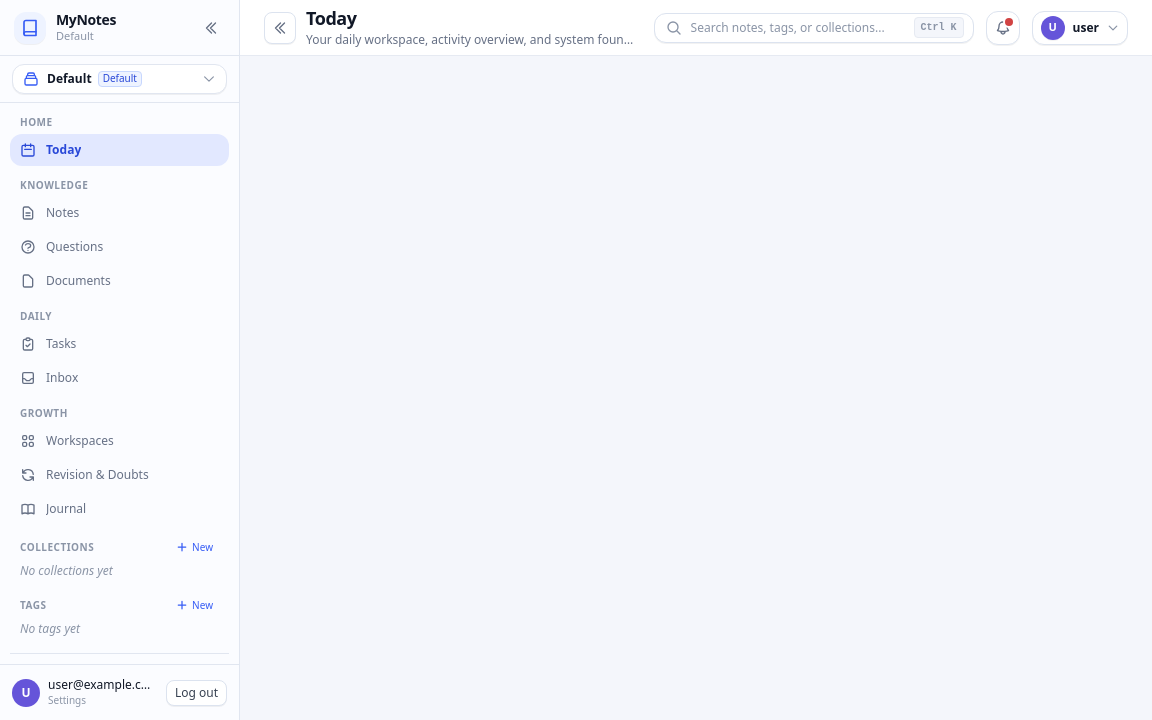
Scenario: Workspaces Feature Frontend Test Suite › 3. Manage Workspaces Modal › opens manage workspaces modal from switcher dropdown
Click the button with aria-label "switch workspace": (120, 79) [12,64,227,94]
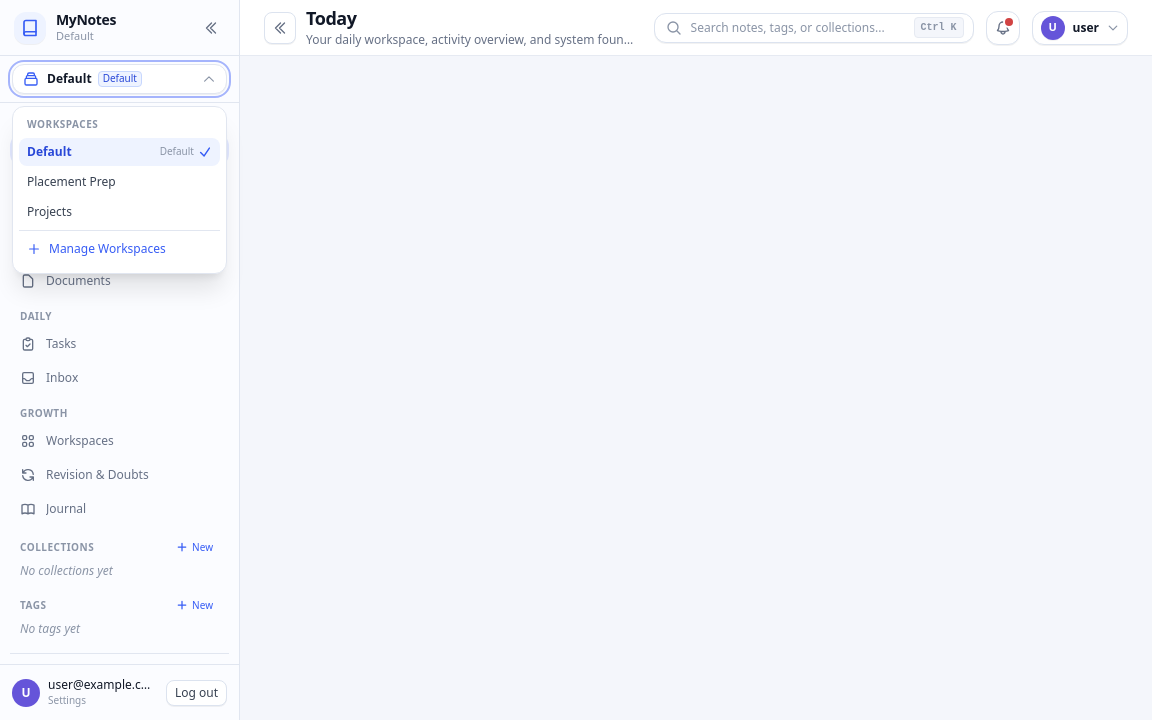
Click the button "Manage Workspaces": (120, 249) [19,235,220,263]
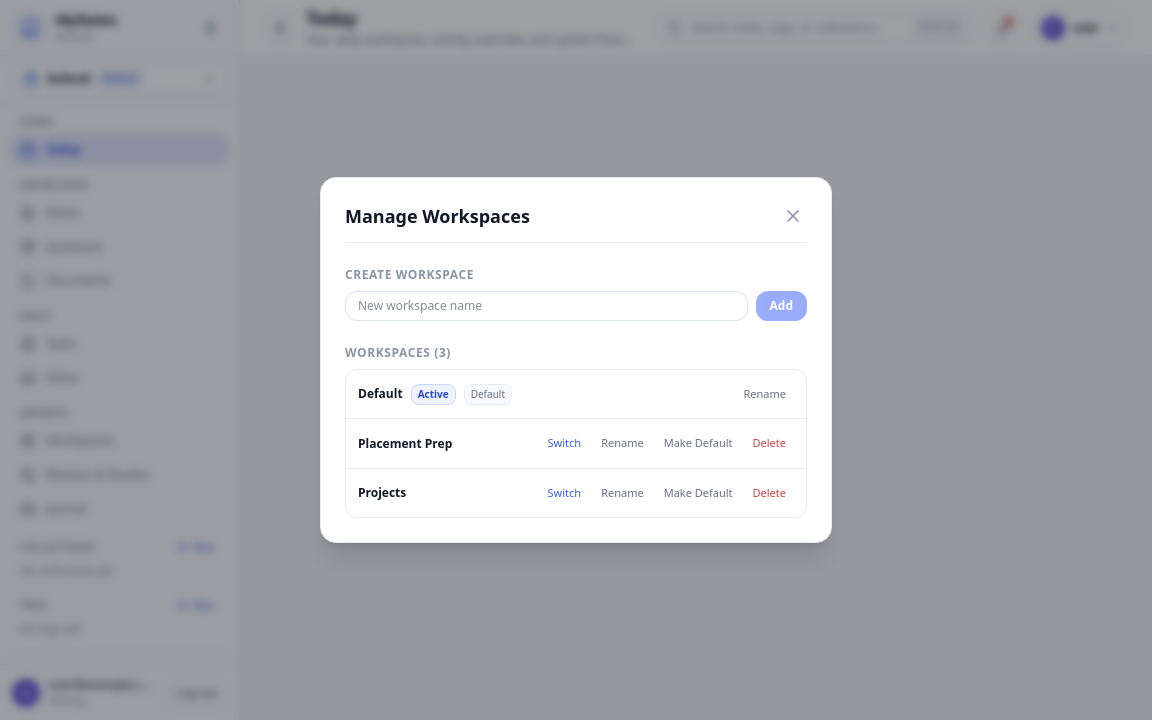
Check: the heading "Manage Workspaces" is shown, box [345,202,530,230]
Check: the field labelled "New workspace name" is shown, box [345,291,748,321]
Check: the heading "Workspaces (3)" is shown, box [345,344,451,361]
